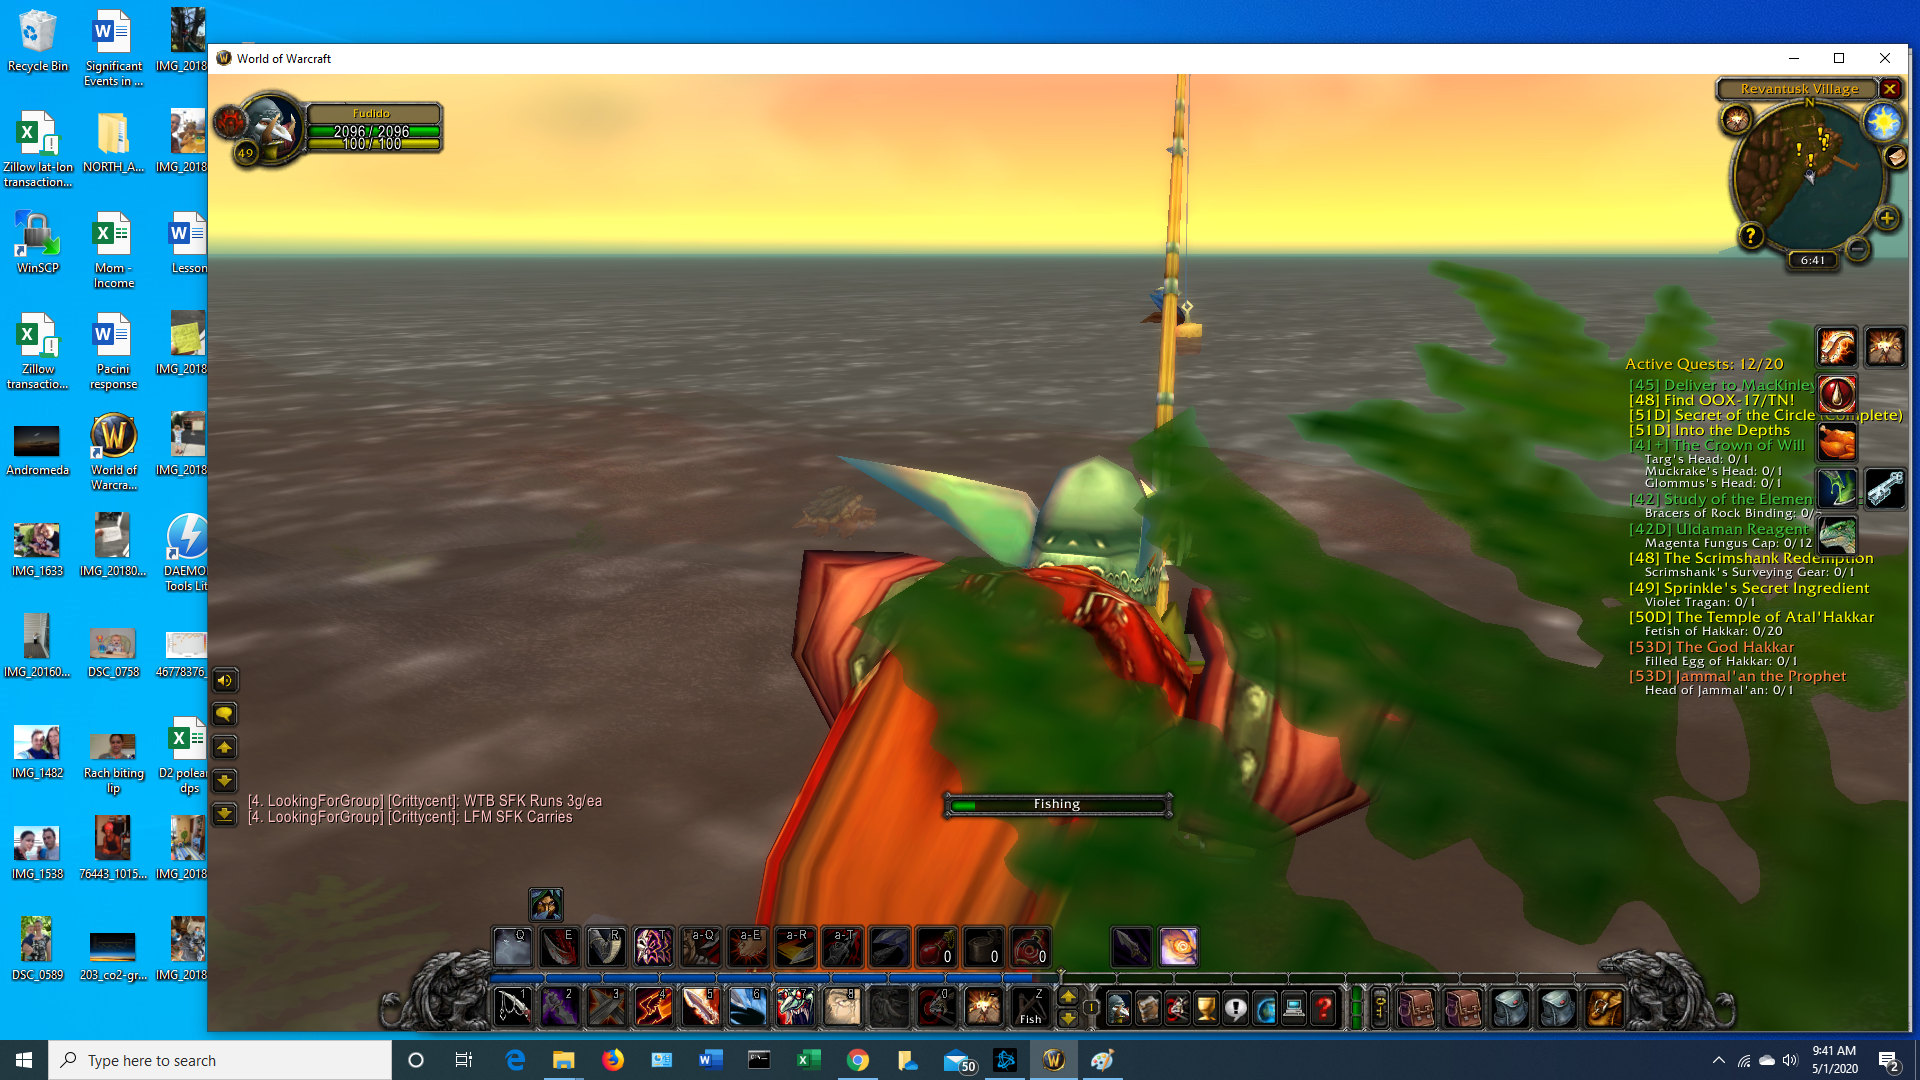bobble: (1139, 287, 1215, 363)
